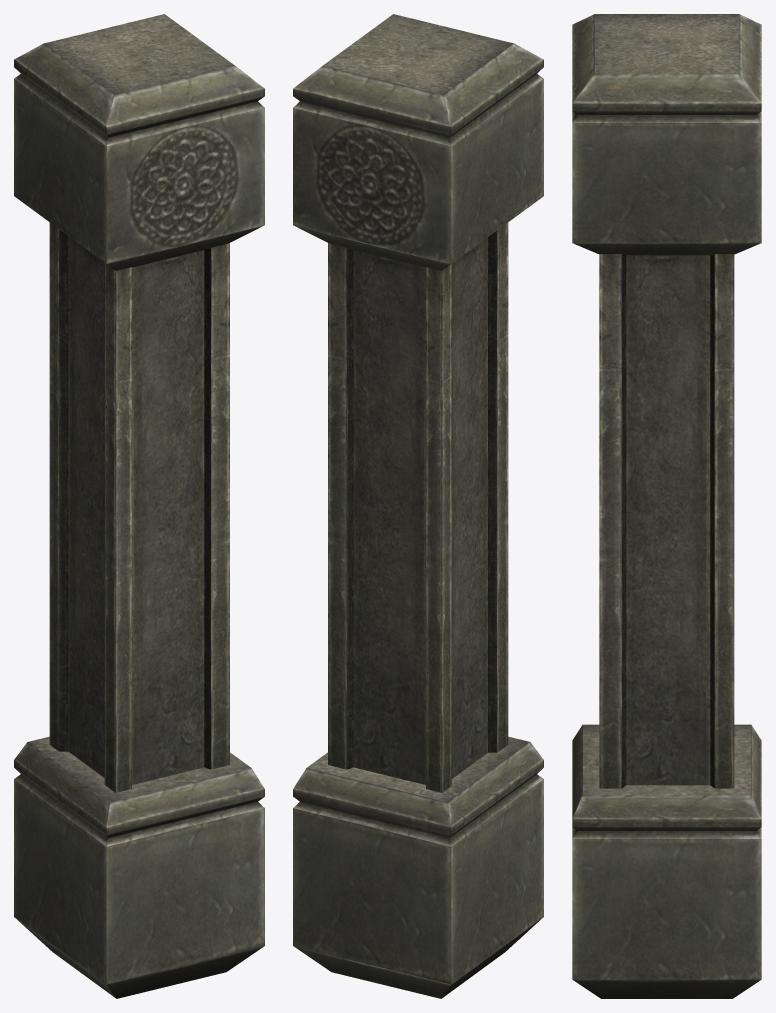
Rendered from dawnmist_wallpillar00.glb.
3 views of the same model, side by side, from view 1: azimuth 30°, elevation 25°; view 2: azimuth 150°, elevation 25°; view 3: azimuth 270°, elevation 25° (orthographic). The views are drawn at different scales.
Parts seen in each view (by area): view 1: lDawnMist_wallpillar00; view 2: lDawnMist_wallpillar00; view 3: lDawnMist_wallpillar00.
Part boxes in pixels (bbox=[...]): lDawnMist_wallpillar00: bbox=[14, 14, 264, 998]; lDawnMist_wallpillar00: bbox=[293, 14, 543, 998]; lDawnMist_wallpillar00: bbox=[572, 14, 761, 998].
Size of the model in its own units: 2.05 by 11.21 by 2.07.
Materials: 1 (1 with a texture image).
